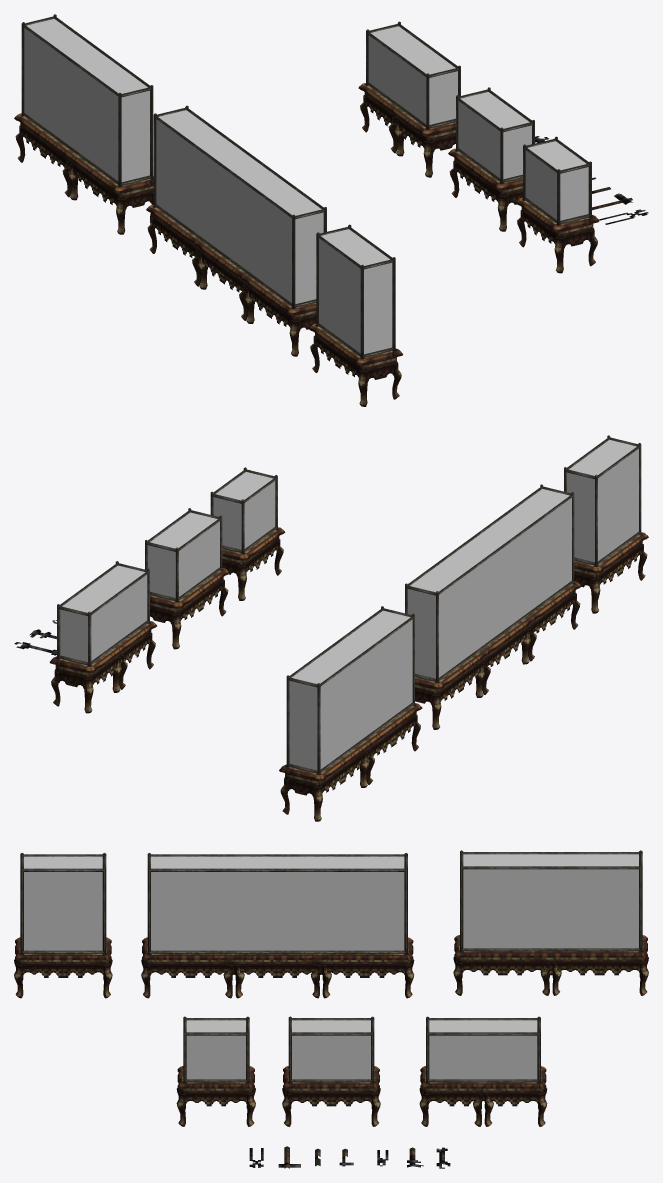
The model's file is EnvObjMD_Invention_Showcase_A_150W.FBX.
3 renders of one model, top to bottom at view 1: azimuth 30°, elevation 25°; view 2: azimuth 150°, elevation 25°; view 3: azimuth 270°, elevation 25°, orthographic. The views are drawn at different scales.
Visible parts, largest first — view 1: EnvObjMD_Invention_Showcase_A_600W300H, EnvObjMD_Invention_Showcase_A_400W300H, EnvObjMD_Invention_Showcase_A_200W300H, EnvObjMD_Invention_Showcase_A_250W, EnvObjMD_Invention_Showcase_A_200W, EnvObjMD_Invention_Showcase_A_150W; view 2: EnvObjMD_Invention_Showcase_A_600W300H, EnvObjMD_Invention_Showcase_A_400W300H, EnvObjMD_Invention_Showcase_A_250W, EnvObjMD_Invention_Showcase_A_200W300H, EnvObjMD_Invention_Showcase_A_200W, EnvObjMD_Invention_Showcase_A_150W; view 3: EnvObjMD_Invention_Showcase_A_600W300H, EnvObjMD_Invention_Showcase_A_400W300H, EnvObjMD_Invention_Showcase_A_200W300H, EnvObjMD_Invention_Showcase_A_250W, EnvObjMD_Invention_Showcase_A_200W, EnvObjMD_Invention_Showcase_A_150W.
Boxes of the visible parts, box(x1,y1,x2,y2) form: EnvObjMD_Invention_Showcase_A_600W300H: box(146, 105, 326, 356); EnvObjMD_Invention_Showcase_A_400W300H: box(14, 14, 153, 234); EnvObjMD_Invention_Showcase_A_200W300H: box(309, 224, 403, 406); EnvObjMD_Invention_Showcase_A_250W: box(358, 21, 460, 177); EnvObjMD_Invention_Showcase_A_200W: box(448, 87, 534, 231); EnvObjMD_Invention_Showcase_A_150W: box(515, 136, 599, 273); EnvObjMD_Invention_Showcase_A_600W300H: box(405, 484, 581, 729); EnvObjMD_Invention_Showcase_A_400W300H: box(279, 606, 422, 821); EnvObjMD_Invention_Showcase_A_250W: box(49, 561, 156, 713); EnvObjMD_Invention_Showcase_A_200W300H: box(564, 435, 648, 613); EnvObjMD_Invention_Showcase_A_200W: box(145, 508, 229, 649); EnvObjMD_Invention_Showcase_A_150W: box(210, 467, 285, 600); EnvObjMD_Invention_Showcase_A_600W300H: box(141, 853, 414, 998); EnvObjMD_Invention_Showcase_A_400W300H: box(453, 850, 648, 995); EnvObjMD_Invention_Showcase_A_200W300H: box(14, 853, 112, 998); EnvObjMD_Invention_Showcase_A_250W: box(419, 1016, 547, 1126); EnvObjMD_Invention_Showcase_A_200W: box(282, 1016, 380, 1126); EnvObjMD_Invention_Showcase_A_150W: box(176, 1016, 255, 1126).
Bounding box in the file's own units: 938 × 297 × 1311.
